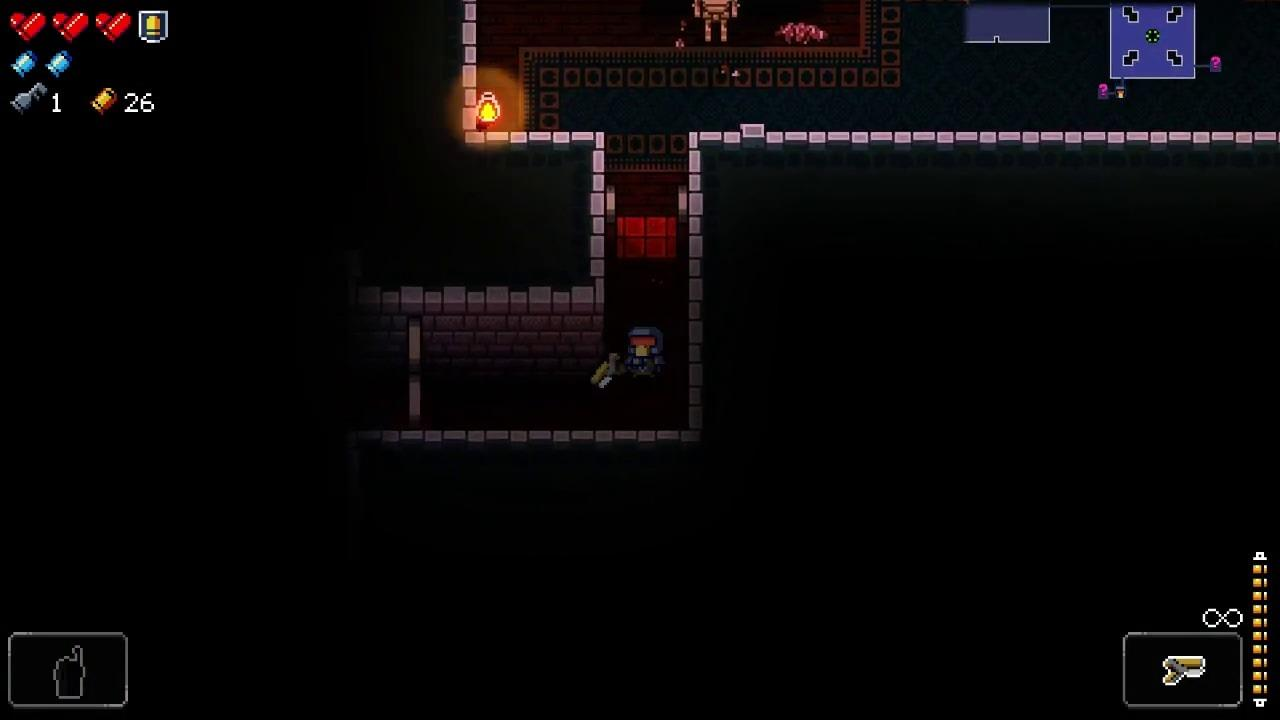player: (628, 327, 665, 379)
unlocked_door: (408, 317, 422, 430), (605, 181, 616, 271), (678, 182, 689, 271)
